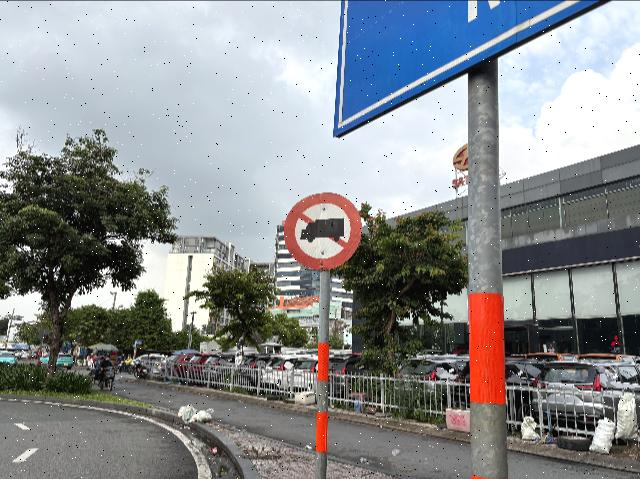cam-xe-tai: (283, 191, 362, 270)
